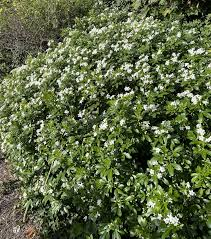flower: (150, 168, 156, 176)
